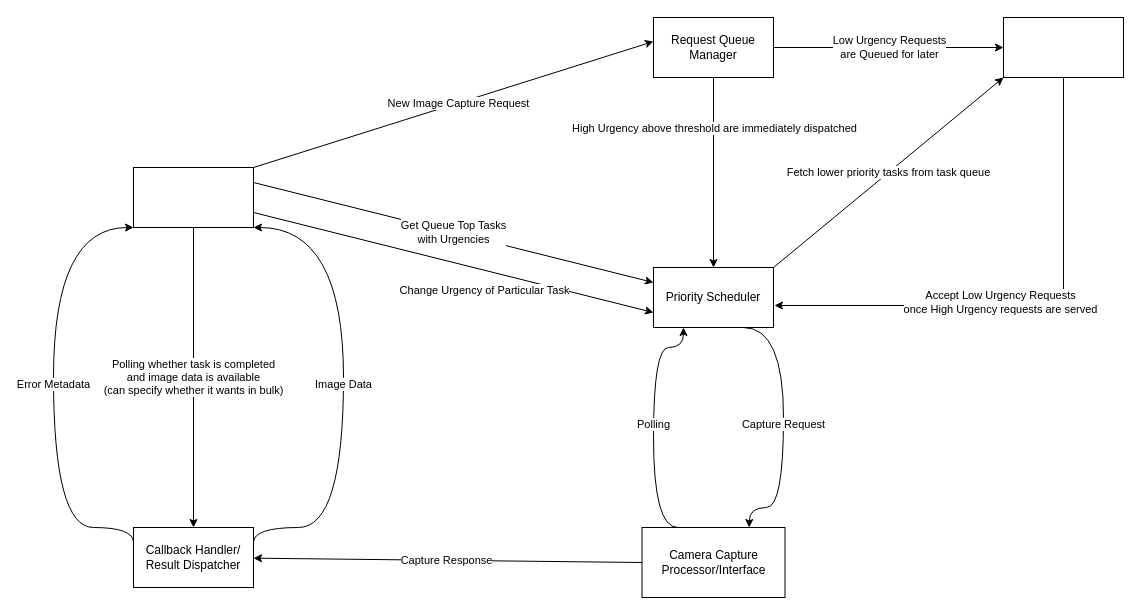
Image size: 1141x615. Some labels were removed from this diagram. The box of each missing label's shape, as (x1, y1, x2, y2) in pixels:
Client: (132, 166, 254, 228)
Task Queue: (1002, 16, 1124, 78)
